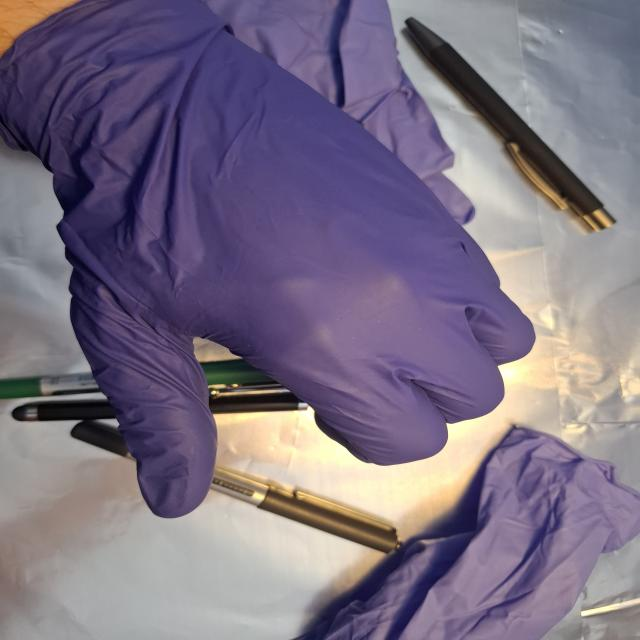glove_on: (2, 0, 539, 521)
